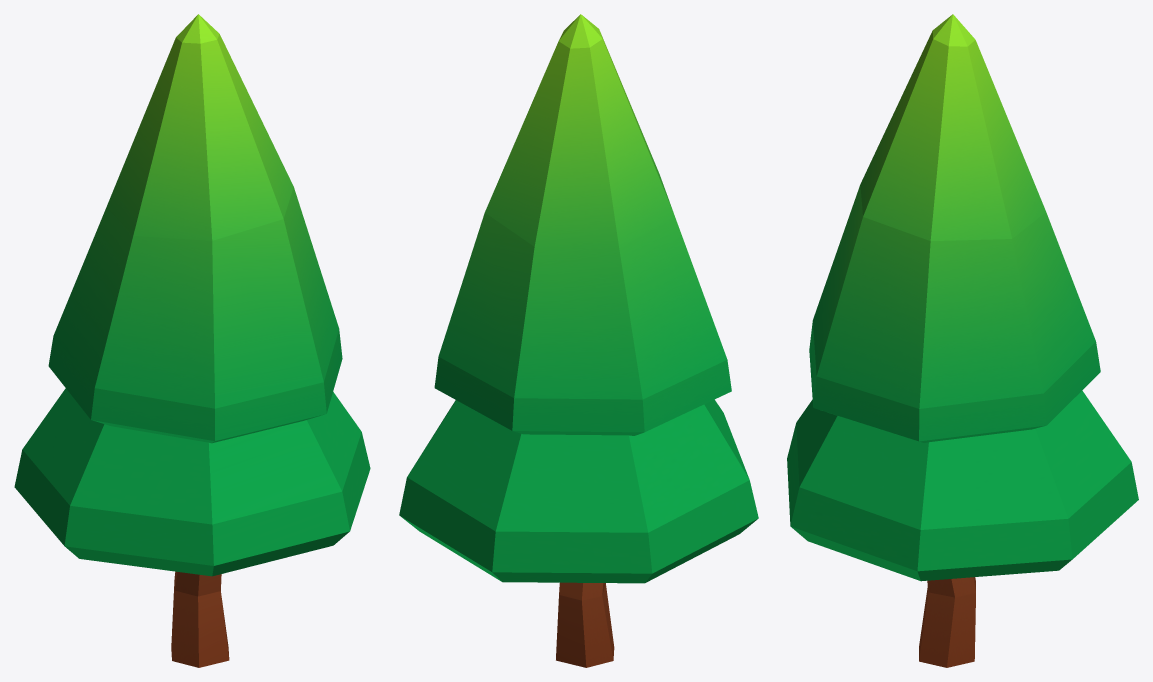
The model's file is Tree12.fbx.
3 renders of one model, left to right at view 1: azimuth 30°, elevation 25°; view 2: azimuth 150°, elevation 25°; view 3: azimuth 270°, elevation 25°, orthographic.
Parts seen in each view (by area): view 1: tree_D3; view 2: tree_D3; view 3: tree_D3.
Part boxes in pixels (x1,y1,x2,y2): tree_D3: (14, 14, 370, 667); tree_D3: (399, 14, 758, 667); tree_D3: (787, 14, 1138, 667).
Size of the model in its own units: 100 by 197 by 98.13.
